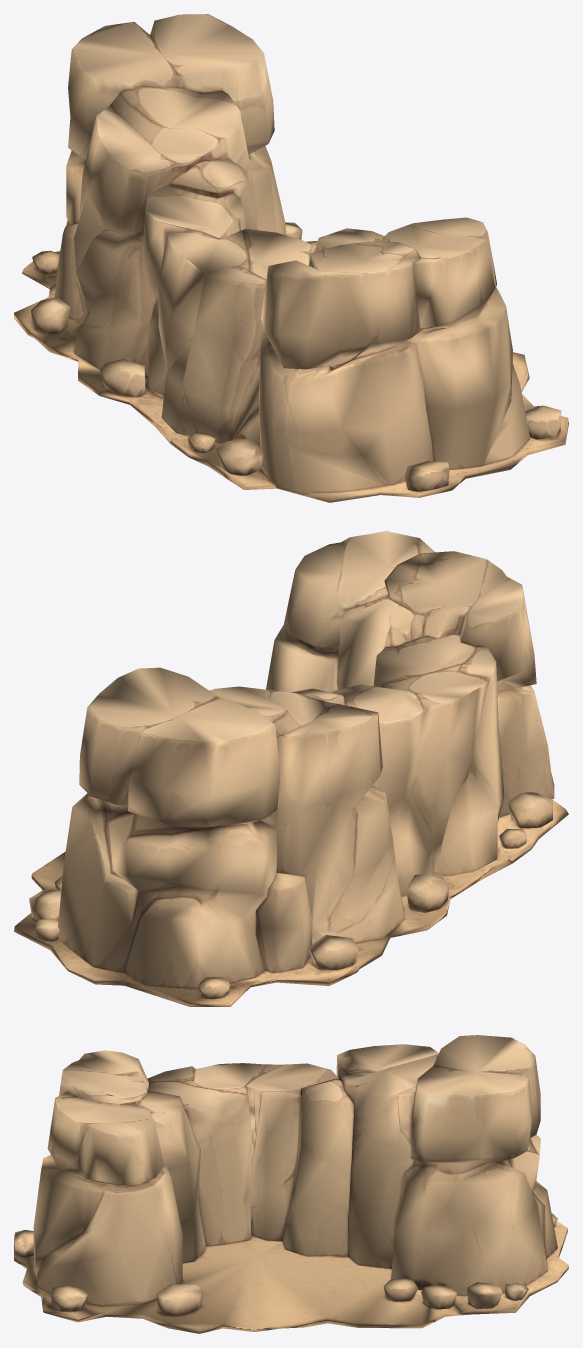
File: Meshy_AI_Crescent_Canyon_Wall_0907131015_texture.fbx
The picture shows the model from 3 angles, top to bottom: view 1: azimuth 30°, elevation 25°; view 2: azimuth 150°, elevation 25°; view 3: azimuth 270°, elevation 25°; orthographic projection. The views are drawn at different scales.
Visible parts, largest first — view 1: mesh_node; view 2: mesh_node; view 3: mesh_node.
Boxes of the visible parts, box(x1,y1,x2,y2) form: mesh_node: box(14, 14, 568, 502); mesh_node: box(14, 531, 568, 1006); mesh_node: box(14, 1035, 568, 1333).
Bounding box in the file's own units: 60.35 × 38.57 × 100.
Materials: 1 (1 with a texture image).
